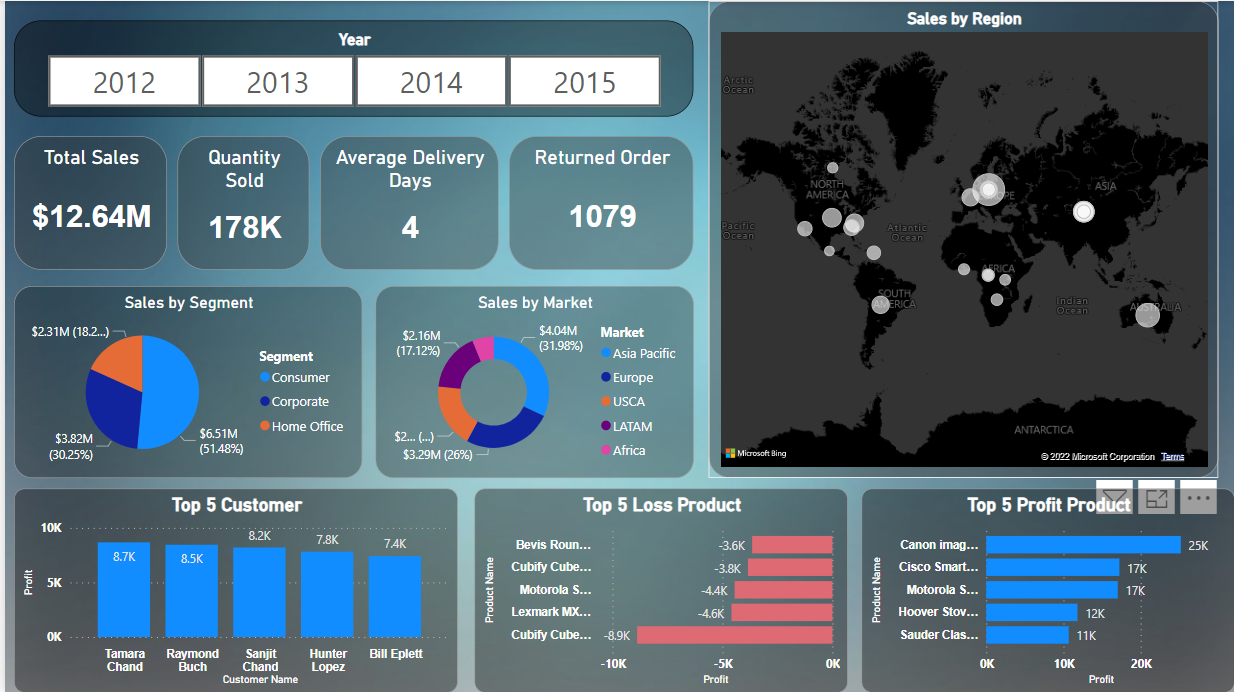

What the dashboard file says about the page in this screenshot:
{"tool":"powerbi","page":{"name":"Page 1","canvas":[1280,720],"ordinal":0},"visuals":[{"type":"card","title":"Total Sales","fields":{"Values":["Orders.Sales"]},"box":[9.4,140.6,159.3,139],"z":0},{"type":"card","title":"Quantity Sold","fields":{"Values":["Orders.Quantity"]},"box":[179.6,140.6,137.4,139],"z":1},{"type":"card","title":"Average Delivery Days","fields":{"Values":["Orders.Delivery Days"]},"box":[328,140.6,185.9,139],"z":2},{"type":"slicer","title":"Year","fields":{"Values":["Orders.Year"]},"box":[9.4,20.3,707.5,100],"z":3},{"type":"card","title":"Returned Order","fields":{"Values":["Returns.Return Num."]},"box":[524.8,140.6,192.1,139],"z":4},{"type":"map","fields":{"Size":["Orders.Sales"],"Category":["Orders.Region"]},"box":[732.5,0,531,496.7],"z":5},{"type":"clusteredBarChart","title":"Top 5 Profit Product","fields":{"Y":["Orders.Profit"],"Category":["Orders.Product Name"]},"box":[891.8,507.6,388.9,212.4],"z":6},{"type":"clusteredBarChart","title":"Top 5 Loss Product","fields":{"Y":["Orders.Profit"],"Category":["Orders.Product Name"]},"box":[488.9,507.6,388.9,212.4],"z":7},{"type":"pieChart","fields":{"Category":["Orders.Segment"],"Y":["Orders.Sales"]},"box":[9.4,296.7,362.3,199.9],"z":8},{"type":"donutChart","fields":{"Y":["Orders.Sales"],"Category":["Orders.Market"]},"box":[385.8,296.7,331.1,199.9],"z":9},{"type":"columnChart","title":"Top 5 Customer","fields":{"Y":["Orders.Profit"],"Category":["Orders.Customer Name"]},"box":[9.4,507.6,462.3,212.4],"z":10}]}

Visuals, with their boxes in screenshot pixels (x1, y1, x2, y2), scaled from the page's 1280x720 canvas onto the 1234x692 screenshot:
"Total Sales" card: crop(9, 135, 163, 269)
"Quantity Sold" card: crop(173, 135, 306, 269)
"Average Delivery Days" card: crop(316, 135, 495, 269)
"Year" slicer: crop(9, 20, 691, 116)
"Returned Order" card: crop(506, 135, 691, 269)
map - Orders.Sales x Orders.Region: crop(706, 0, 1218, 477)
"Top 5 Profit Product" clusteredBarChart: crop(860, 488, 1233, 691)
"Top 5 Loss Product" clusteredBarChart: crop(471, 488, 846, 691)
pieChart - Orders.Segment x Orders.Sales: crop(9, 285, 358, 477)
donutChart - Orders.Sales x Orders.Market: crop(372, 285, 691, 477)
"Top 5 Customer" columnChart: crop(9, 488, 455, 691)
